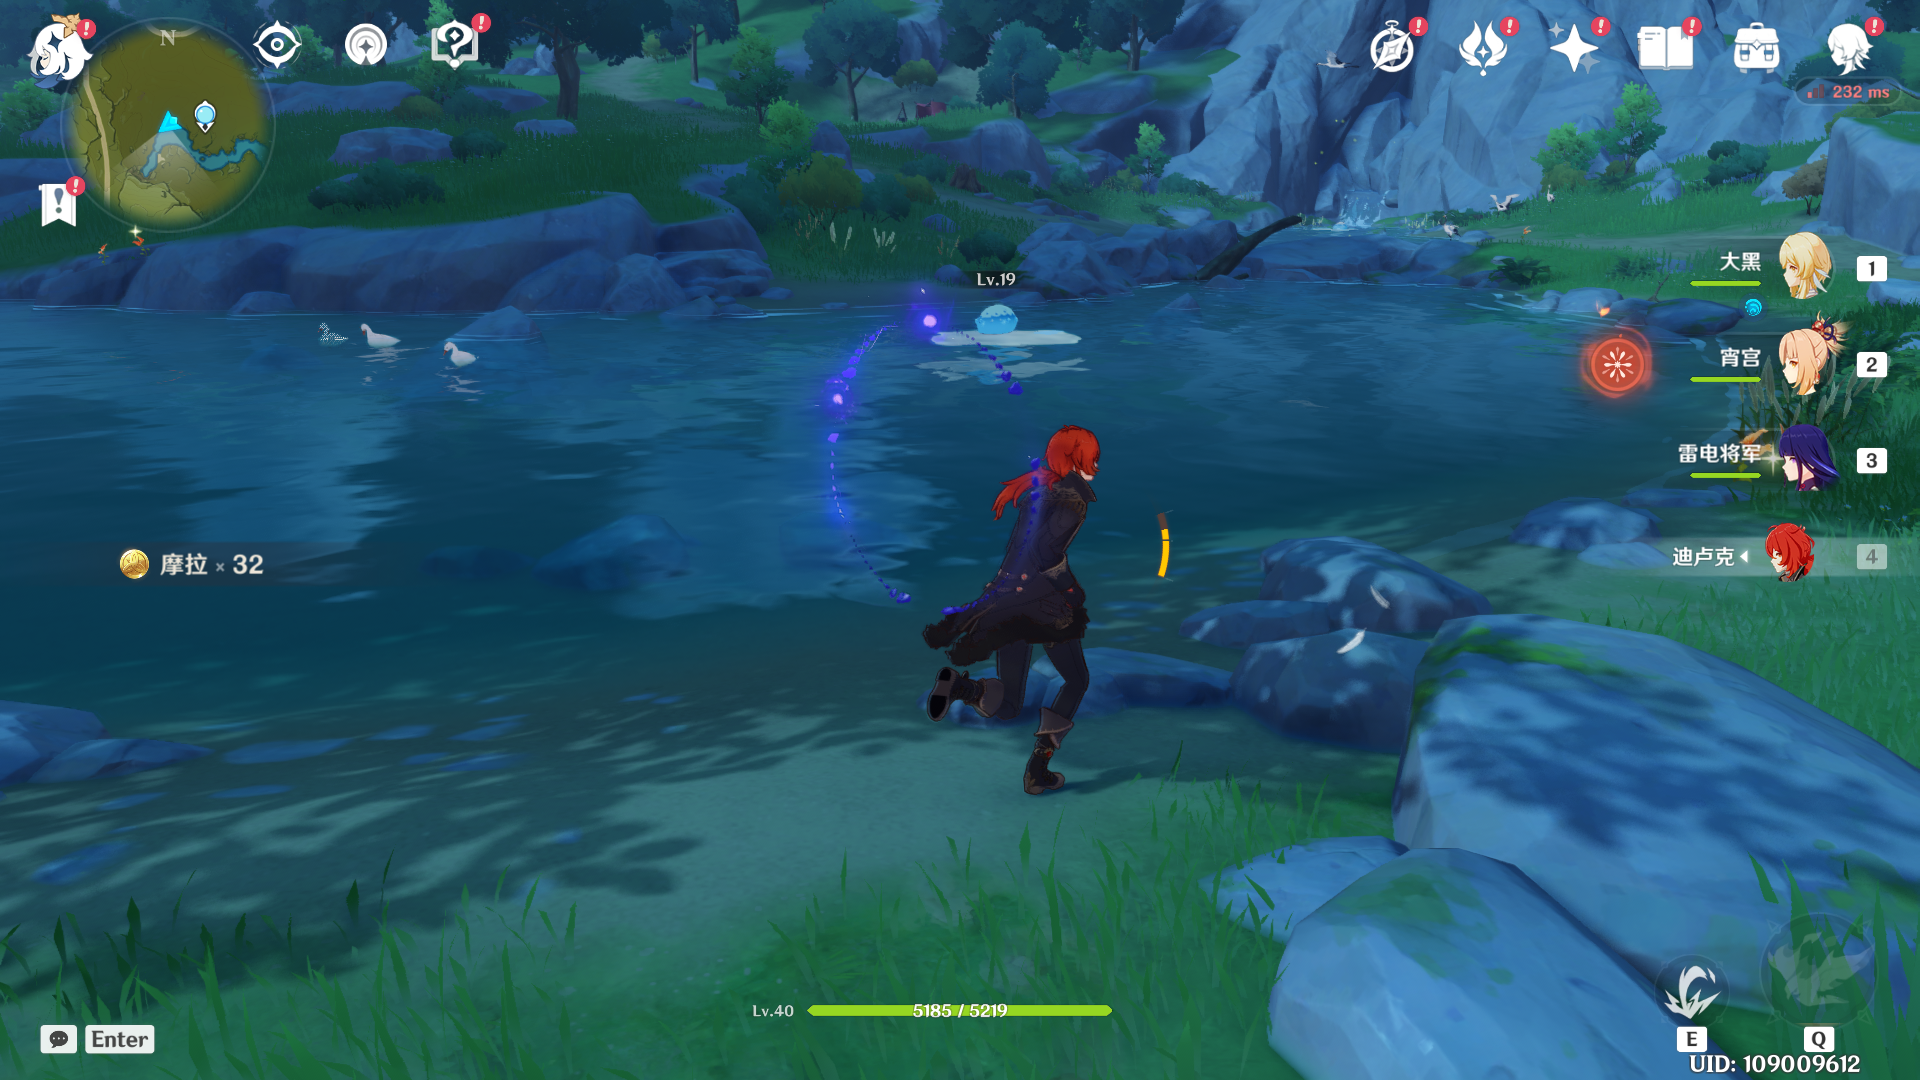character: (884, 402, 1182, 839)
slime: (965, 287, 1023, 353)
